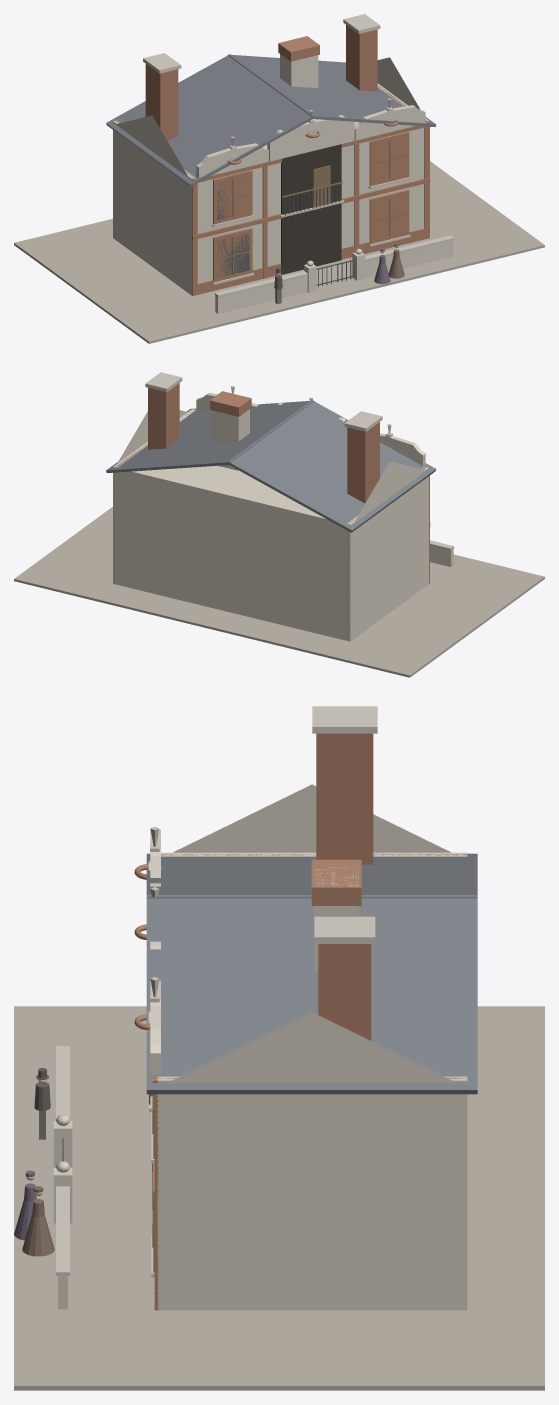
File: scan-fig33-model-houses-muse.glb
3 renders of one model, top to bottom at view 1: azimuth 30°, elevation 25°; view 2: azimuth 150°, elevation 25°; view 3: azimuth 270°, elevation 25°, orthographic. The views are drawn at different scales.
Visible parts, largest first — view 1: Ground, Walls, RoofSlope, RoofSlope.001, PorchBack, GalleryBack, GableC, ChimneyL, ChimneyR, WinFR_surround, WinGR_surround, WinFL_surround (+22 smaller); view 2: Walls, Ground, RoofSlope, RoofSlope.001, ChimneyL, ChimneyR, GableEnd, ChimneyC, ChimneyCtrim, GableL, GableEnd.001, ChimneyLcap (+2 smaller); view 3: Ground, Walls, RoofSlope.001, RoofSlope, GableEnd.001, ChimneyL, GableEnd, ChimneyR, ChimneyCtrim, ChimneyLcap, ChimneyRcap, WallCopR (+6 smaller).
Boxes of the visible parts, box(x1,y1,x2,y2) form: Ground: box(14, 161, 544, 343); Walls: box(113, 83, 428, 295); RoofSlope: box(106, 54, 314, 186); RoofSlope.001: box(228, 54, 436, 127); PorchBack: box(281, 203, 341, 274); GalleryBack: box(281, 144, 341, 214); GableC: box(267, 115, 354, 161); ChimneyL: box(145, 64, 178, 140); ChimneyR: box(346, 25, 377, 91); WinFR_surround: box(369, 132, 409, 186); WinGR_surround: box(369, 189, 409, 244); WinFL_surround: box(213, 170, 252, 224); Walls: box(113, 409, 428, 641); Ground: box(14, 507, 544, 677); RoofSlope: box(227, 401, 436, 532); RoofSlope.001: box(106, 400, 314, 472); ChimneyL: box(347, 422, 379, 503); ChimneyR: box(148, 383, 179, 449); GableEnd: box(354, 461, 426, 523); ChimneyC: box(211, 409, 249, 470); ChimneyCtrim: box(210, 391, 251, 416); GableL: box(380, 433, 425, 465); GableEnd.001: box(117, 410, 187, 463); ChimneyLcap: box(344, 411, 382, 431); Ground: box(14, 1006, 544, 1390); Walls: box(157, 852, 467, 1310); RoofSlope.001: box(146, 895, 477, 1094); RoofSlope: box(146, 853, 477, 898); GableEnd.001: box(172, 1012, 451, 1082); ChimneyL: box(316, 733, 373, 864); GableEnd: box(173, 784, 451, 852); ChimneyR: box(318, 944, 371, 1040); ChimneyCtrim: box(311, 859, 361, 905); ChimneyLcap: box(312, 706, 377, 733); ChimneyRcap: box(314, 916, 375, 943); WallCopR: box(56, 1186, 69, 1275).
Size of the model in its own units: 22 by 10.46 by 13.
